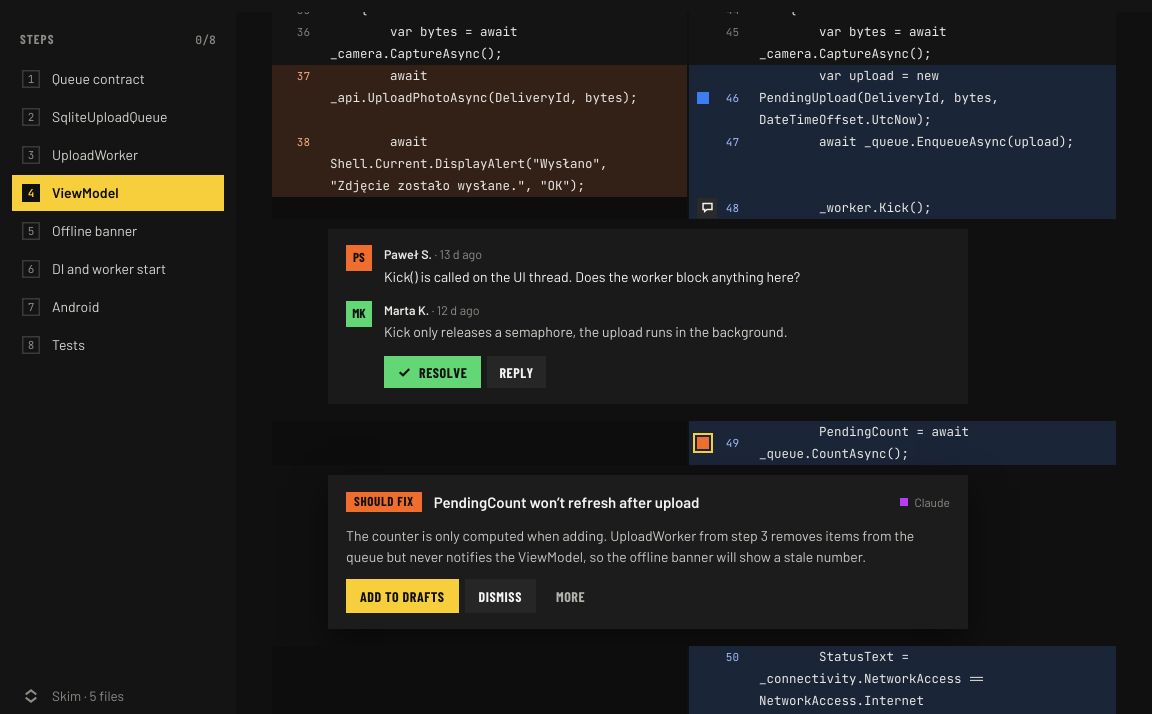
Scenario: S-03 thread actions (F-11.2) › F-11.2 Reply opens a composer under the thread: text area "Write a reply…" in focus, Reply (disabled while blank) and Cancel
(page scrolled)
Click the button "Reply" at (516, 372), box [487, 356, 546, 388]
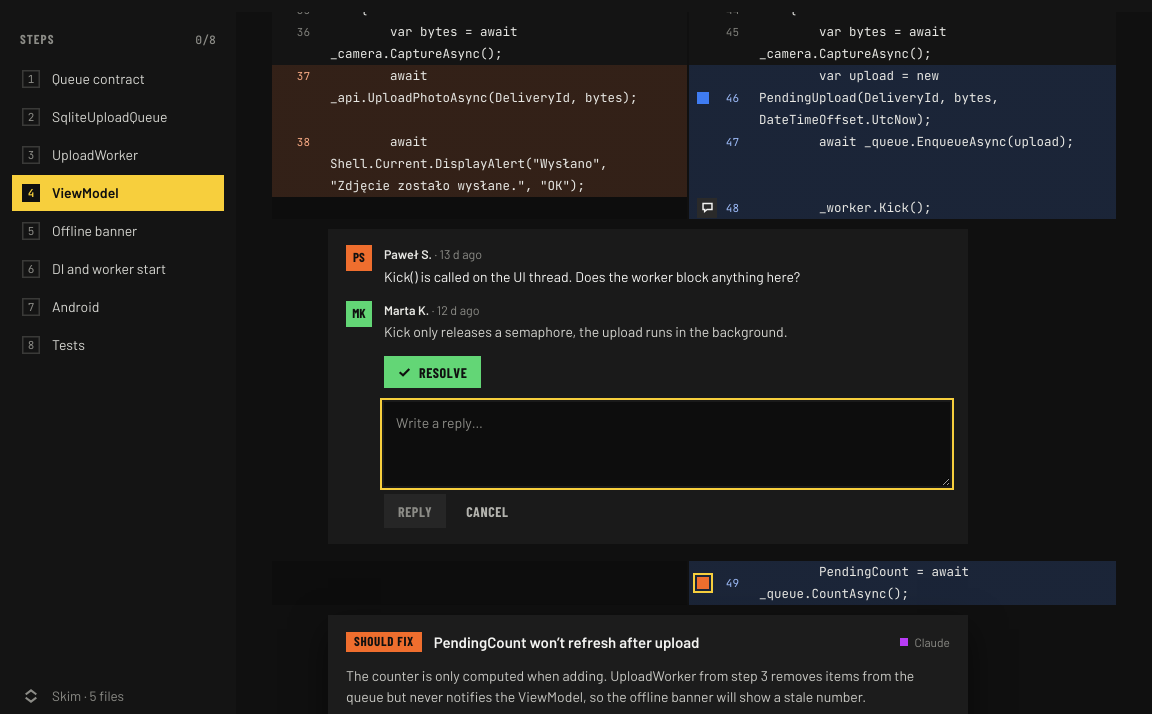
Expected: the button "Resolve" is enabled, [384, 356, 481, 388]
Expected: the button "Reply" is disabled, [384, 494, 446, 528]
Expected: the button "Cancel" is enabled, [452, 494, 522, 528]
Type "Thanks" into the text box with placeholder "Write a reply…" at (667, 444), box [384, 402, 950, 486]
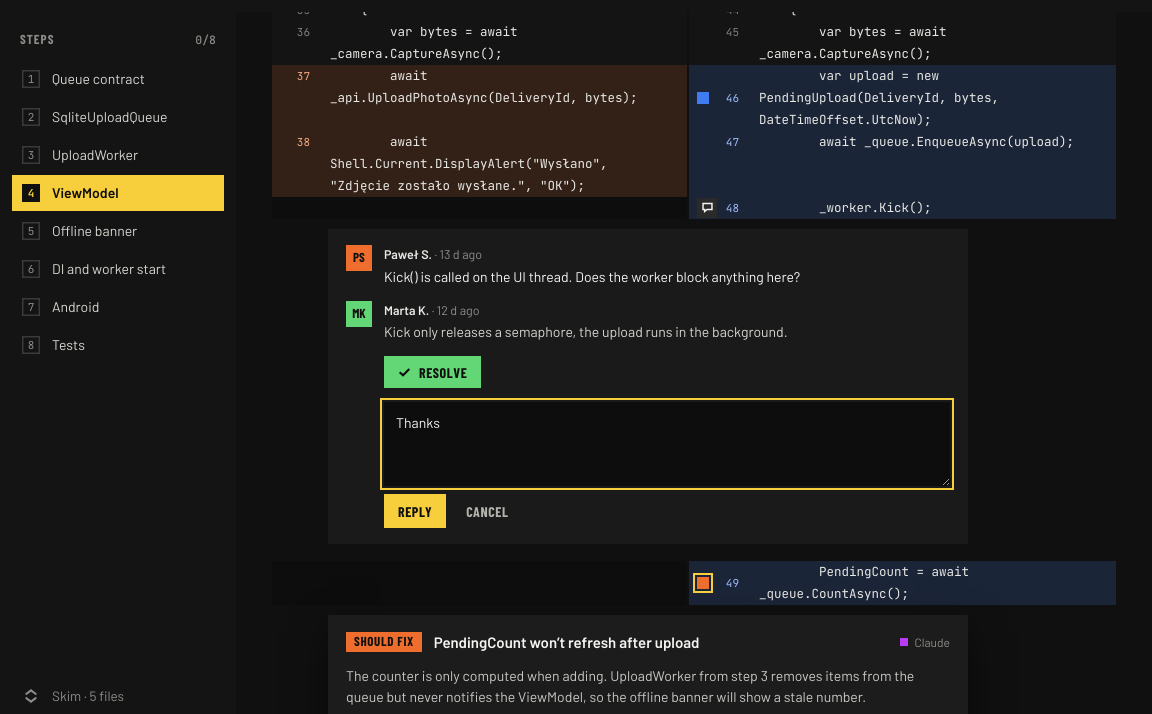
Expected: the button "Reply" is enabled, [384, 494, 446, 528]
